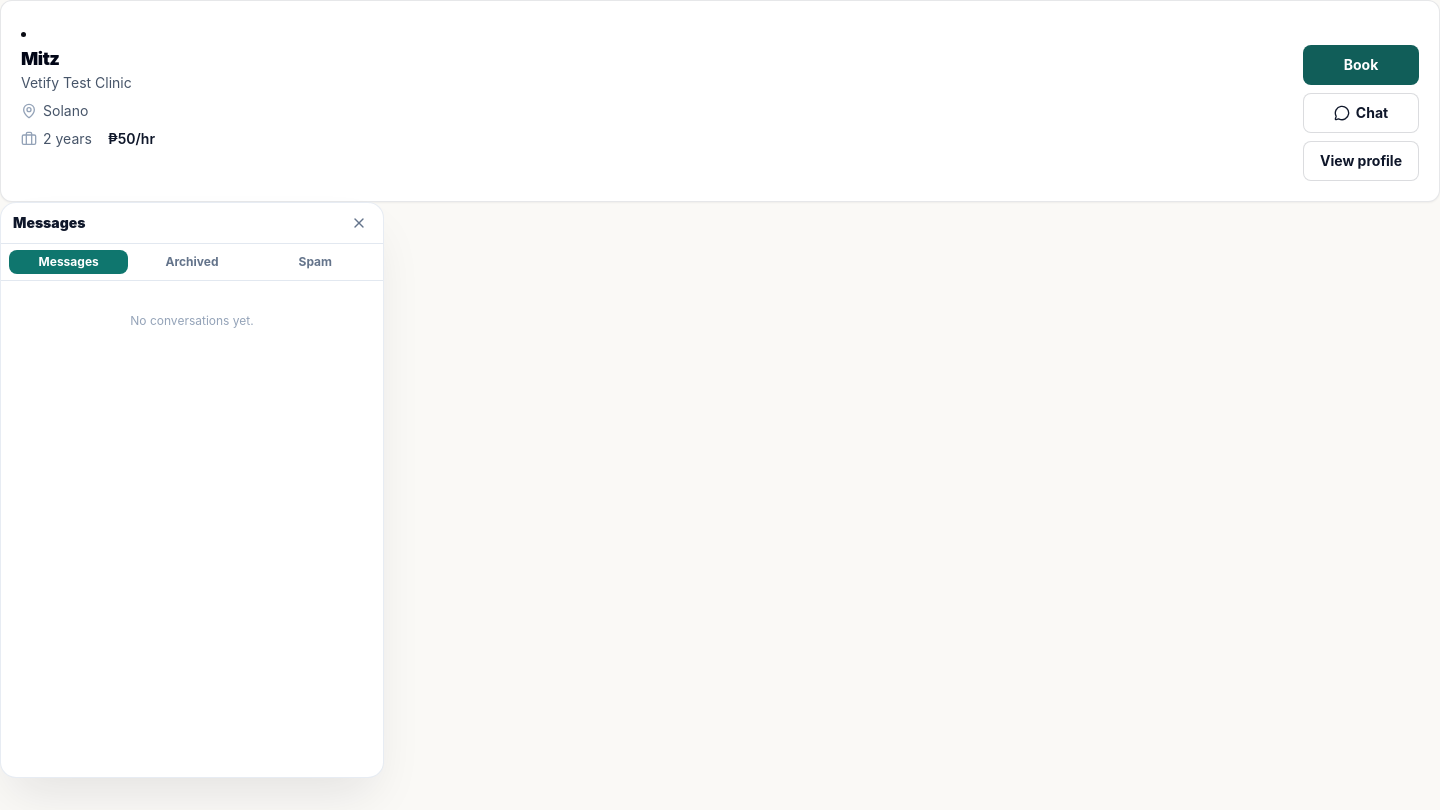
Test: the Chat button on a vet card › opens the conversation with that vet in the panel
Step 1. Click the button "Chat" → x=1361, y=113, box [1303,93,1419,133]
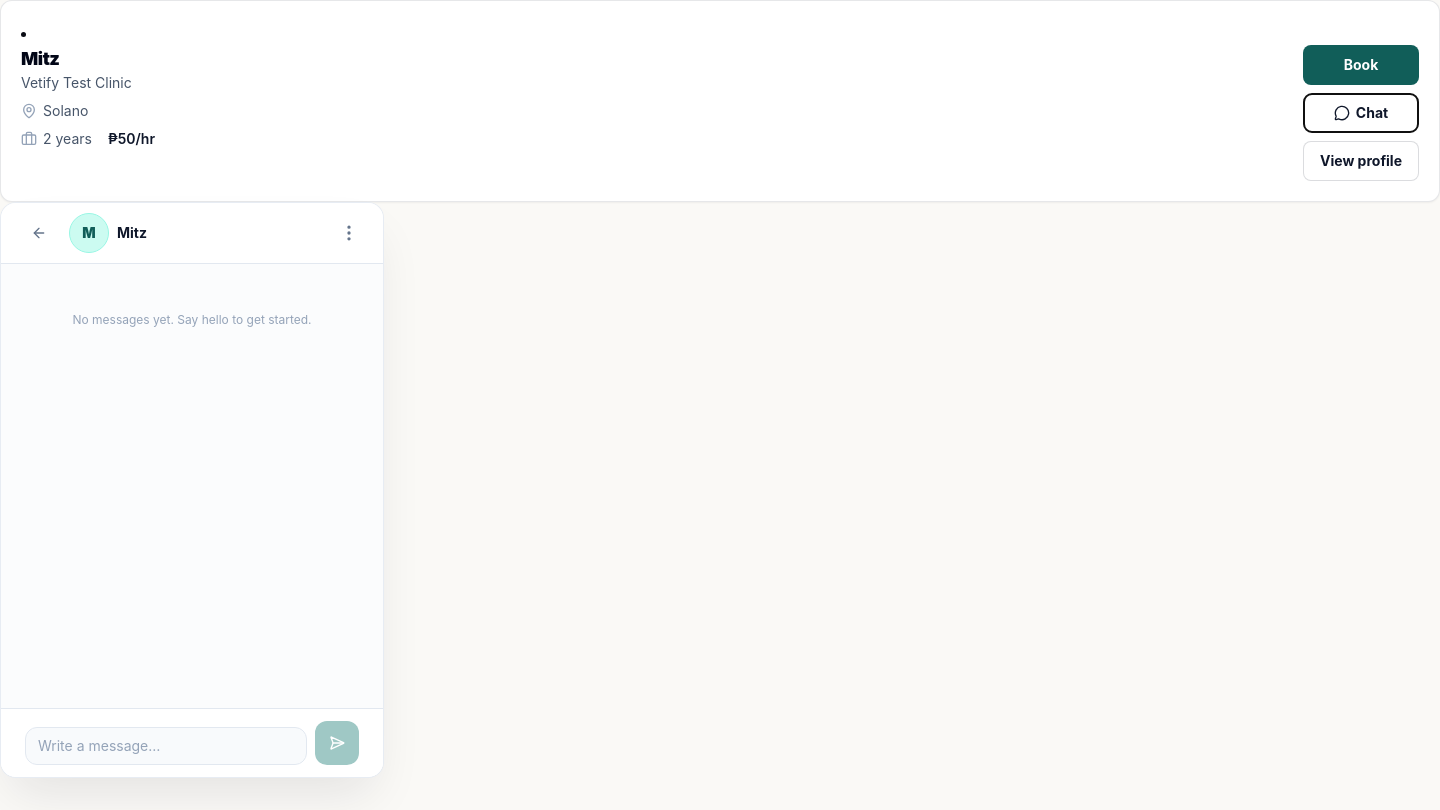
Result: the text box with placeholder "Write a message…" is shown at [25,727,307,765]
